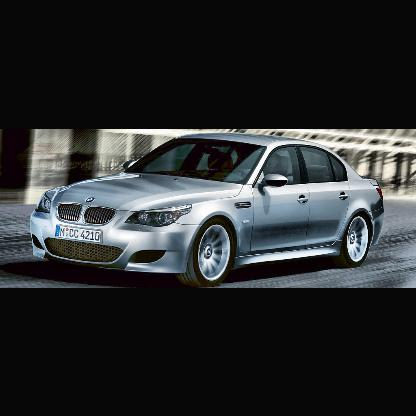BMW M5 Sedan 2010: (32, 134, 385, 283)
